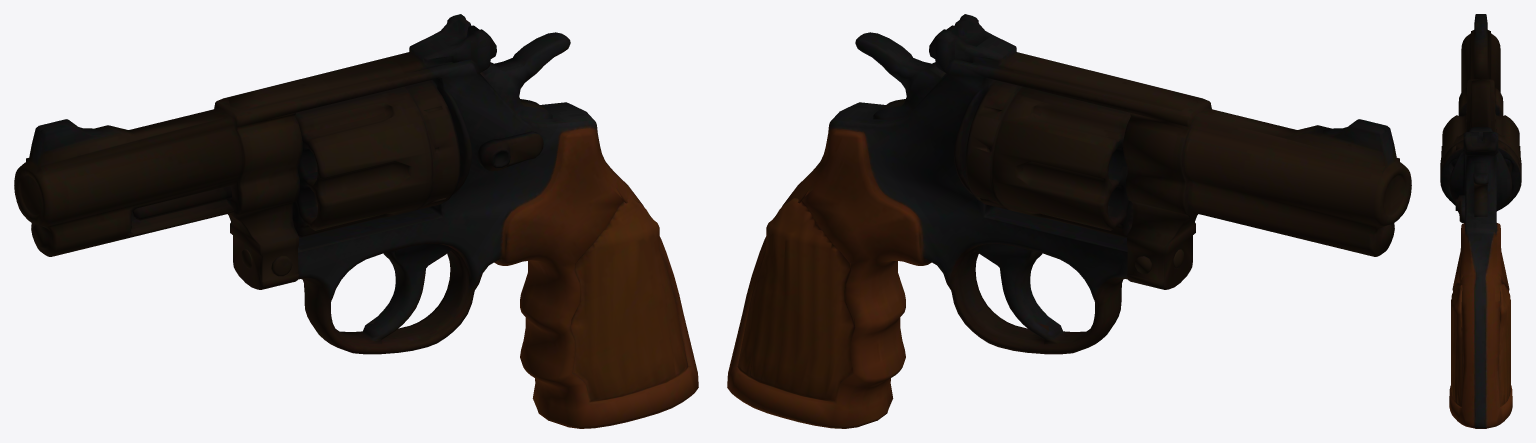
The model's file is Weapons__colt_45_revolver_71083f71_v2.cluster.glb.
3 renders of one model, left to right at view 1: azimuth 30°, elevation 25°; view 2: azimuth 150°, elevation 25°; view 3: azimuth 270°, elevation 25°, orthographic. The views are drawn at different scales.
Visible parts, largest first — view 1: material; view 2: material; view 3: material.
Boxes of the visible parts, x1=… form: material: x1=14, y1=14, x2=698, y2=428; material: x1=727, y1=14, x2=1411, y2=428; material: x1=1440, y1=14, x2=1521, y2=428.
Bounding box in the file's own units: 1.9 × 1.13 × 0.3535.
Materials: 1 (1 with a texture image).
